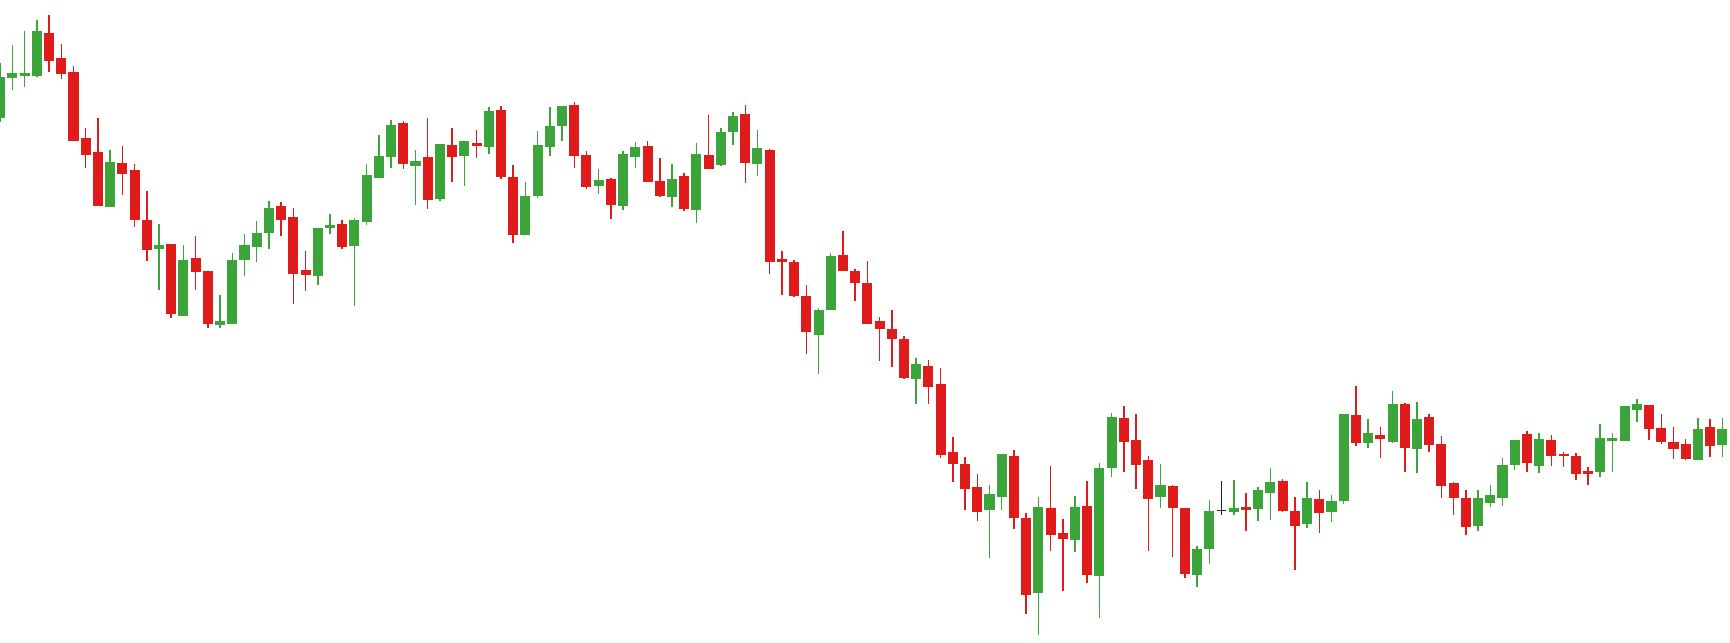buy: (285, 213, 360, 308)
sell: (629, 103, 714, 192)
